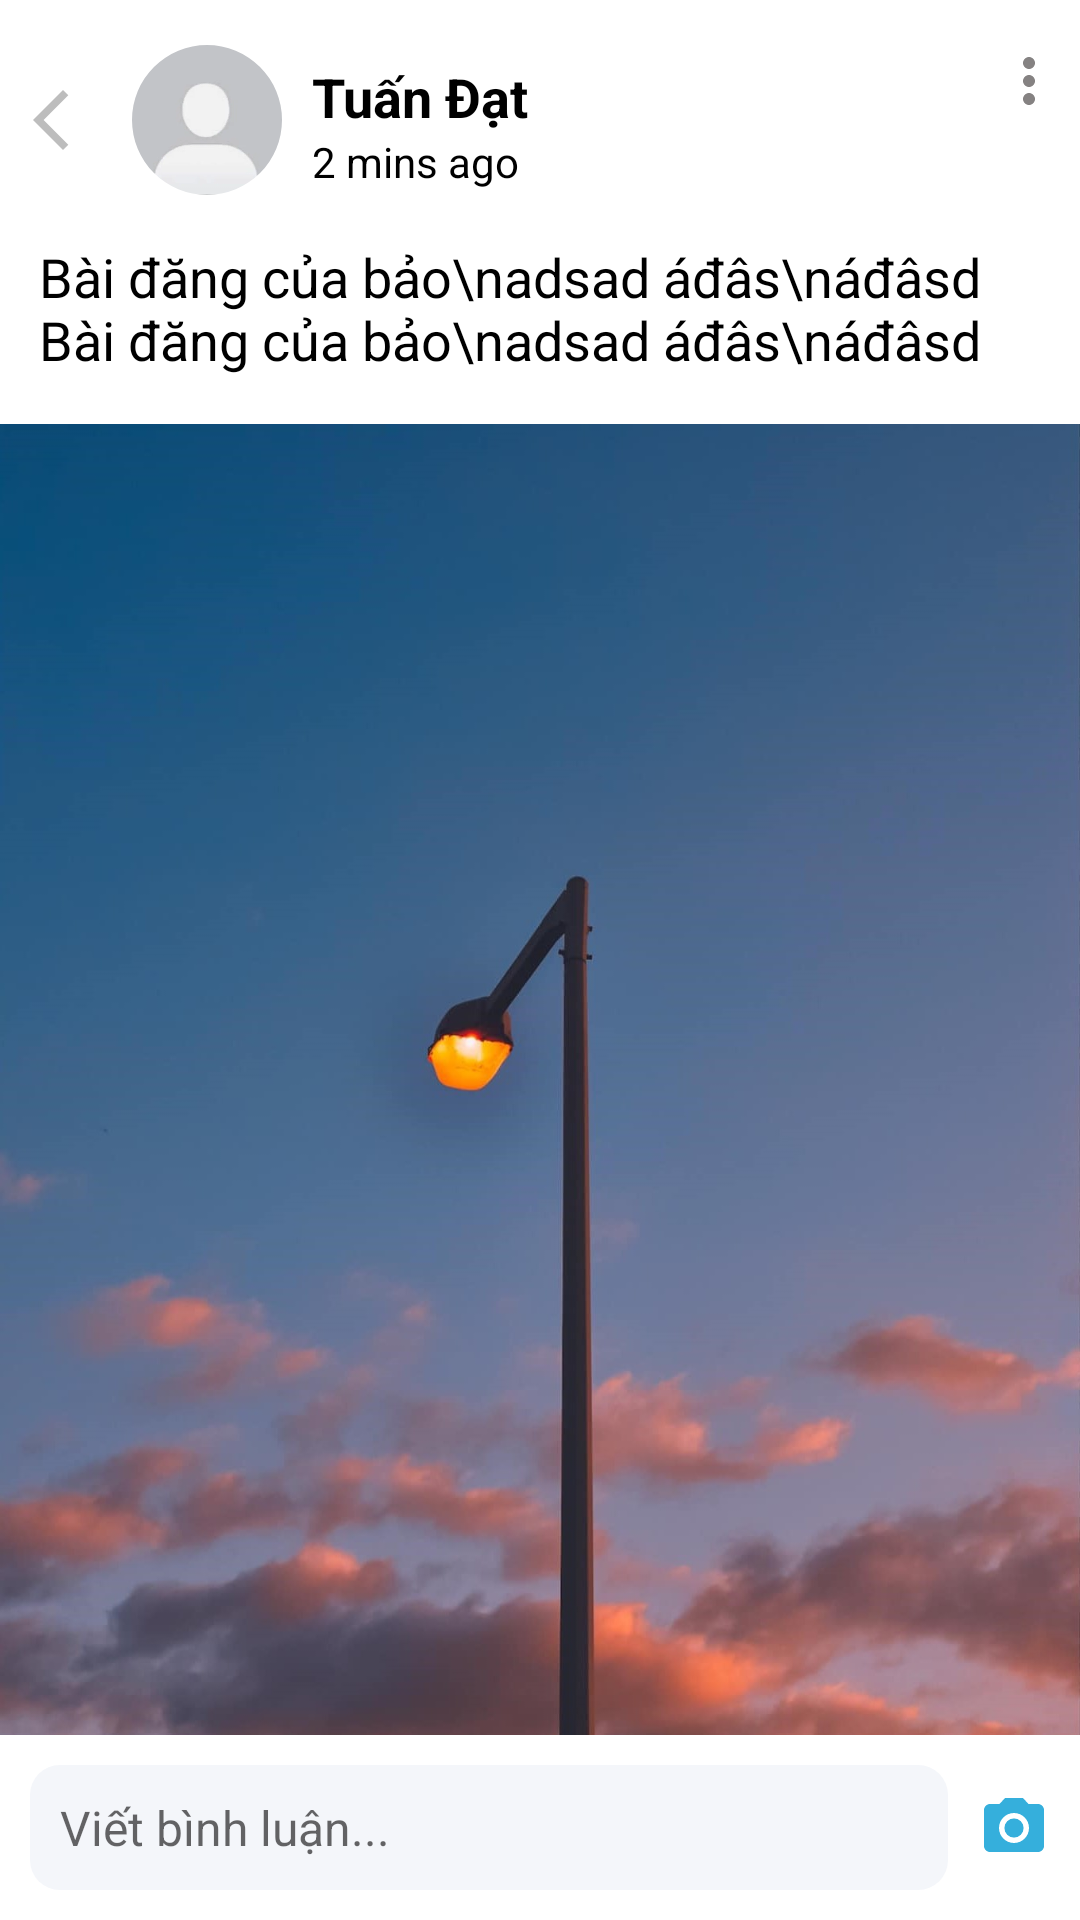

Screen size 1080 × 1920. Icon name, then its box in pixels as detection(x1, y1, x2, y2):
back: detection(33, 90, 68, 150)
camera: detection(984, 1798, 1044, 1852)
option: detection(1023, 57, 1035, 105)
